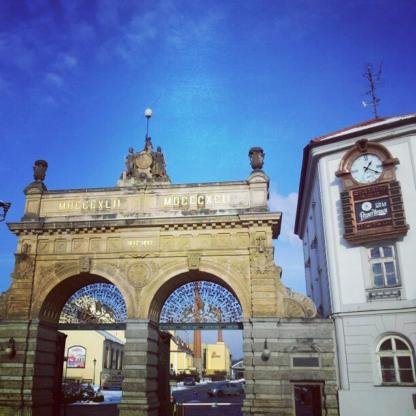Car: (207, 383, 245, 397), (185, 377, 197, 388), (243, 382, 246, 389)
